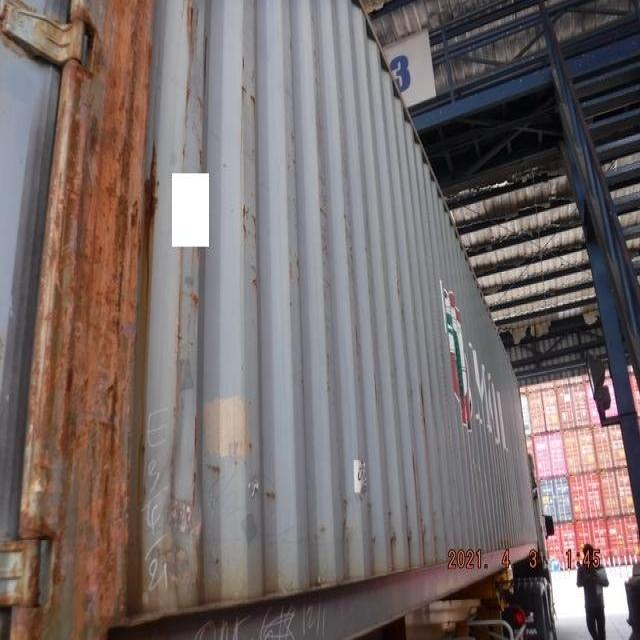dent: (138, 449, 226, 562)
